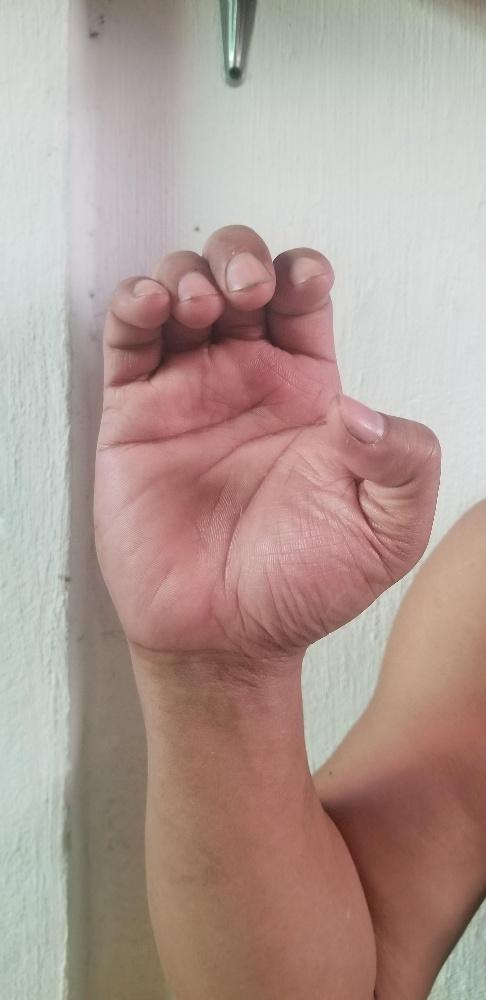e: (92, 222, 442, 642)
